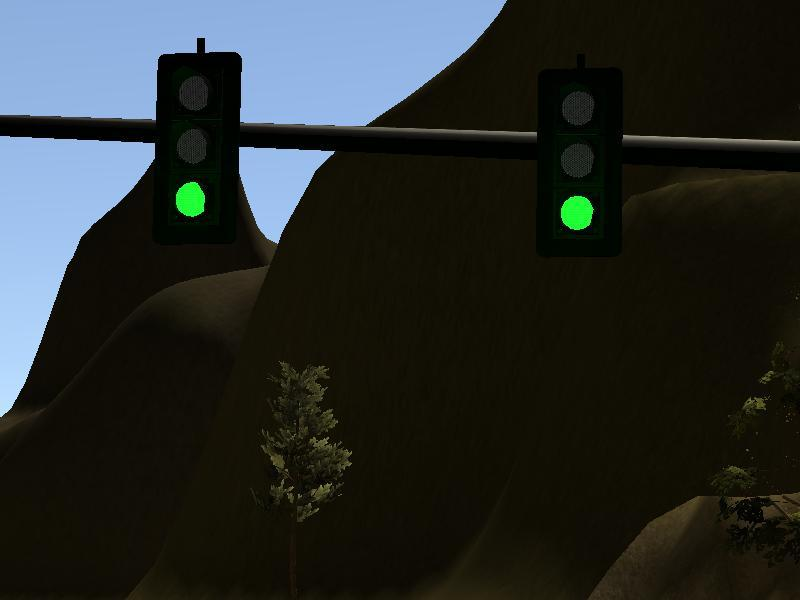Green: (535, 67, 622, 259), (155, 52, 238, 245)
